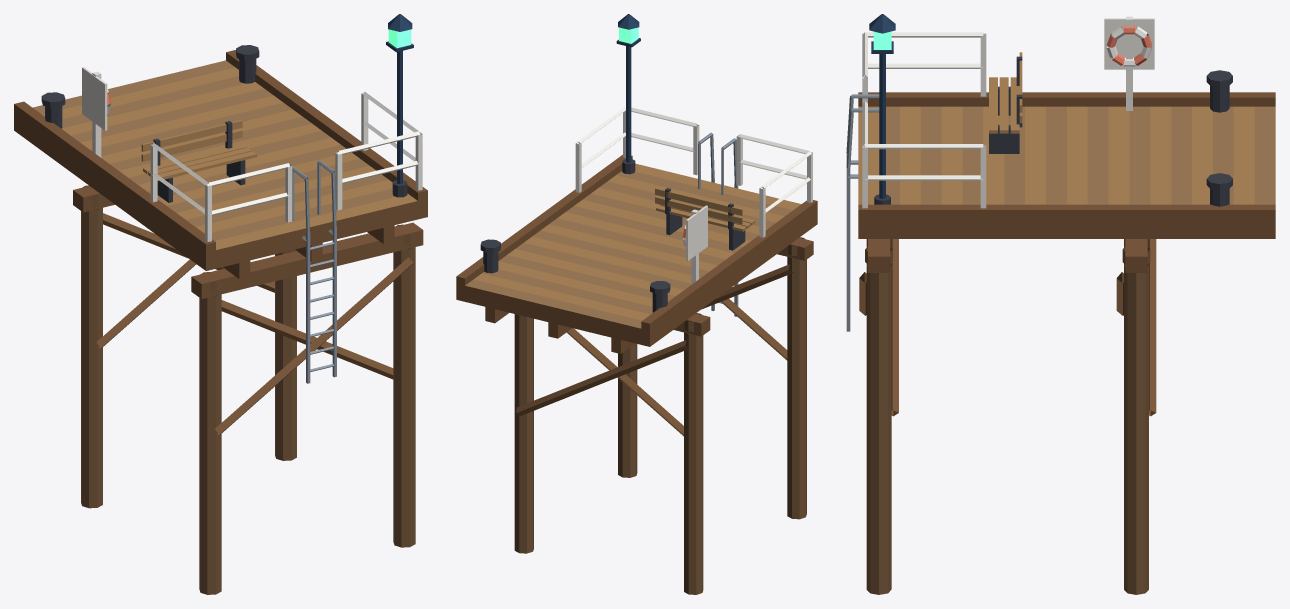
Rendered from pier_end.glb.
3 renders of one model, left to right at view 1: azimuth 30°, elevation 25°; view 2: azimuth 150°, elevation 25°; view 3: azimuth 270°, elevation 25°, orthographic. The views are drawn at different scales.
Visible parts, largest first — view 1: Building, Building_Detail; view 2: Building, Building_Detail; view 3: Building, Building_Detail.
Boxes of the visible parts, x1,y1,x2,y2 form: Building: (14, 45, 427, 594); Building_Detail: (82, 14, 422, 383); Building: (456, 155, 817, 594); Building_Detail: (575, 14, 812, 316); Building: (858, 70, 1275, 594); Building_Detail: (846, 14, 1154, 331).
Bounding box in the file's own units: 4 × 9.1 × 6.17.
